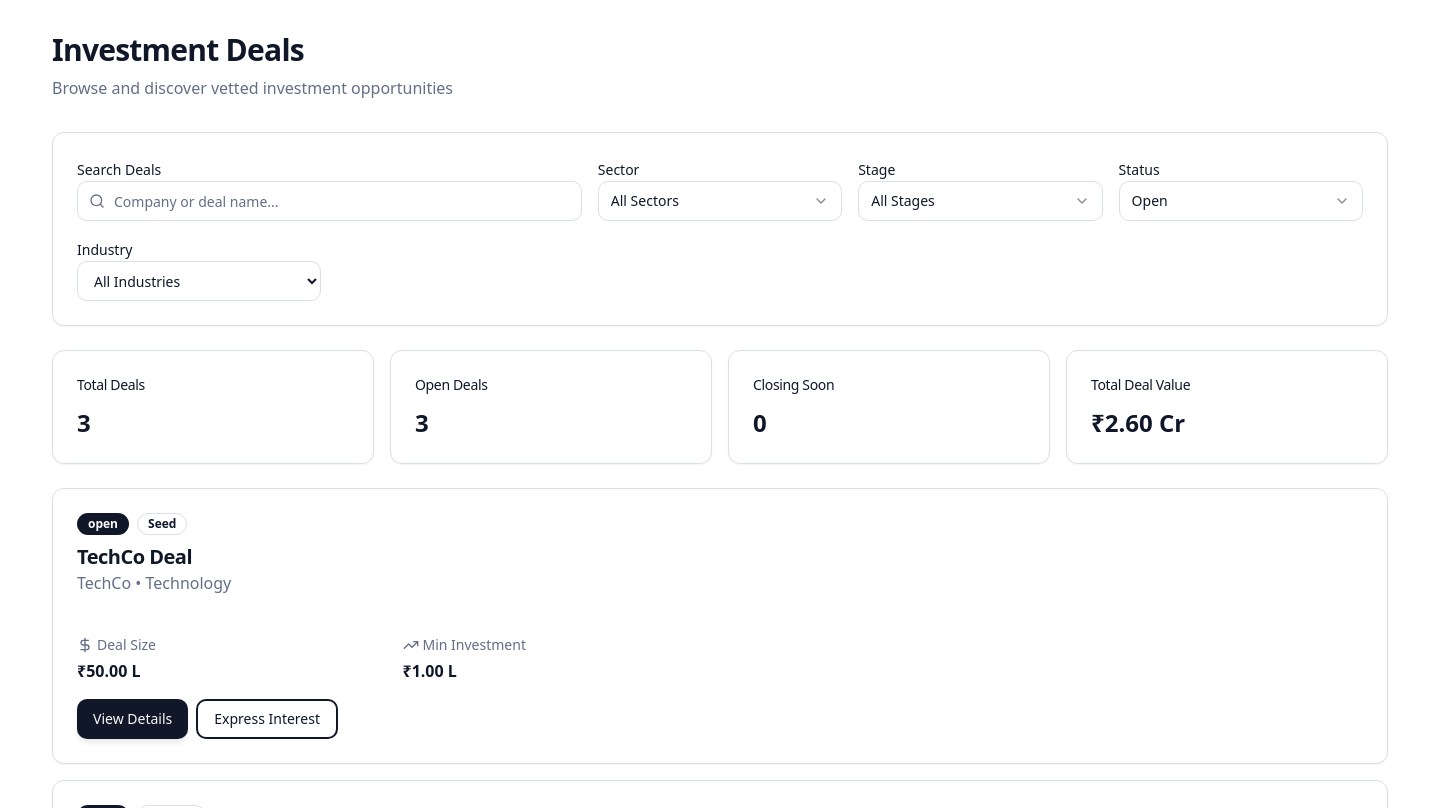
US-INDUSTRY-003: Deal Industry Filtering › Filtering › should restore all deals when filter is cleared
The image size is (1440, 808).
expect the text "TechCo Deal" is shown: met, box [77, 543, 192, 570]
Select "Technology" in the dropdown labelled "Industry": (199, 281) [77, 261, 321, 301]
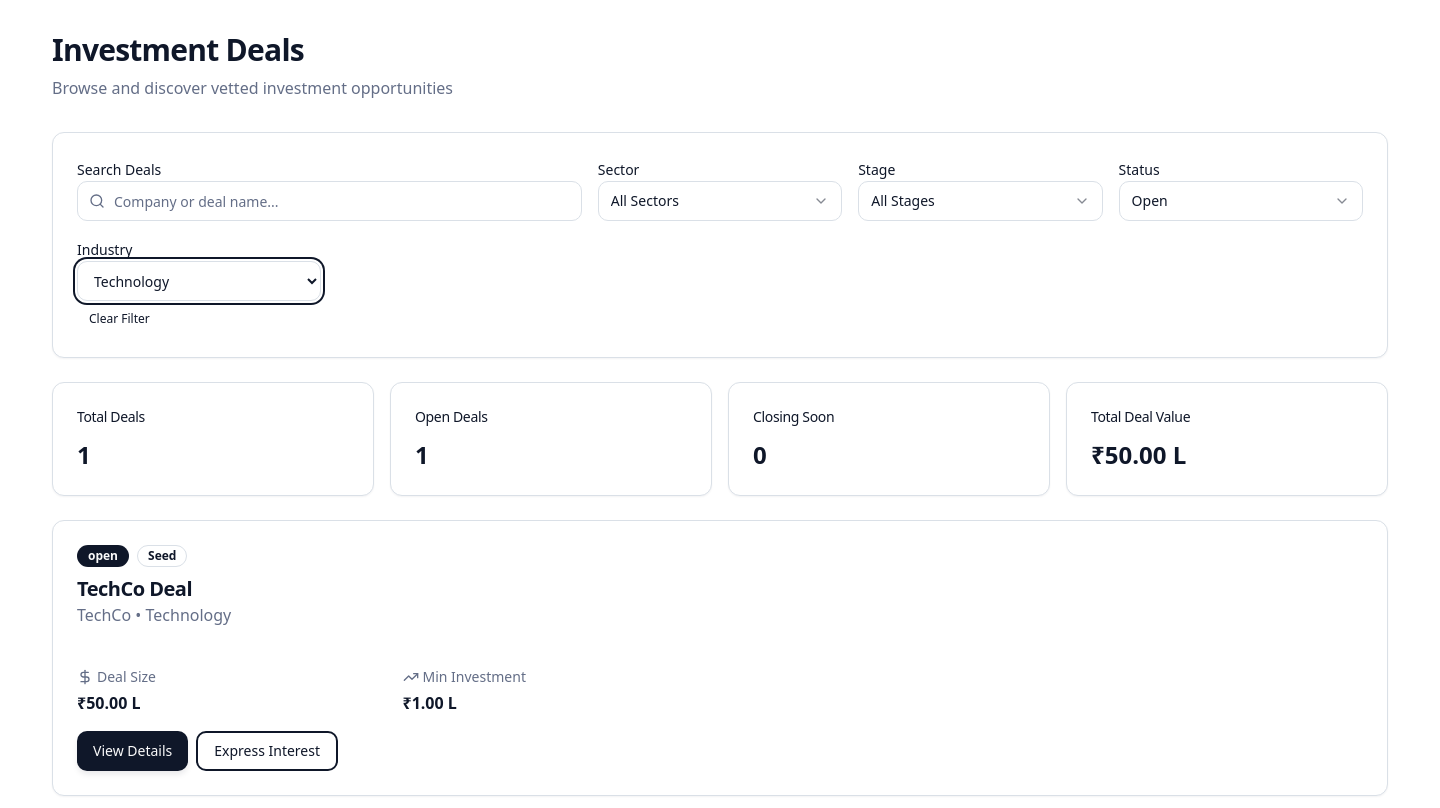
expect the button "Clear Filter" is shown: met
Click the button "Clear Filter": (119, 319) [77, 305, 162, 333]
(page scrolled)
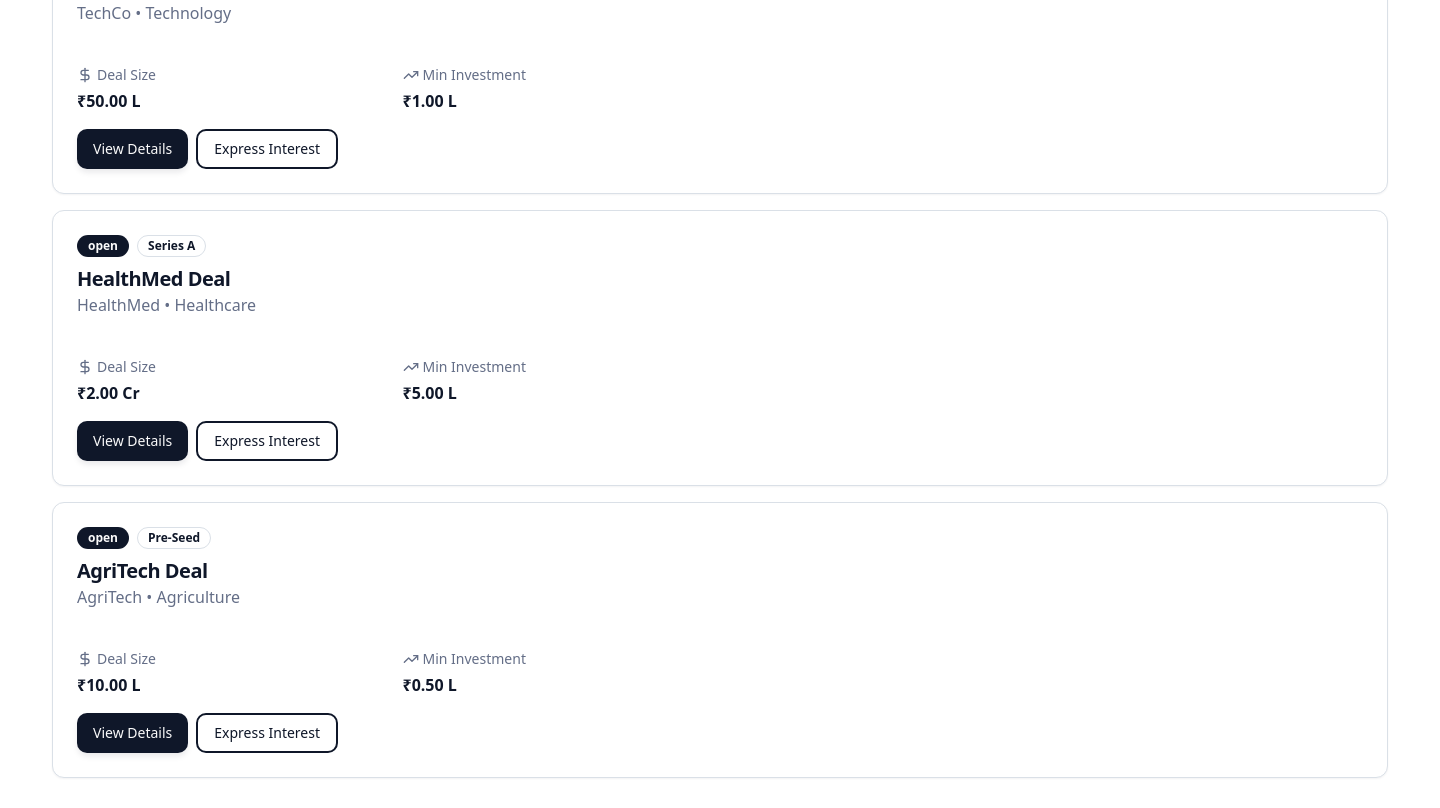
expect the text "HealthMed Deal" is shown: met, box [77, 265, 230, 292]
expect the text "AgriTech Deal" is shown: met, box [77, 557, 208, 584]
